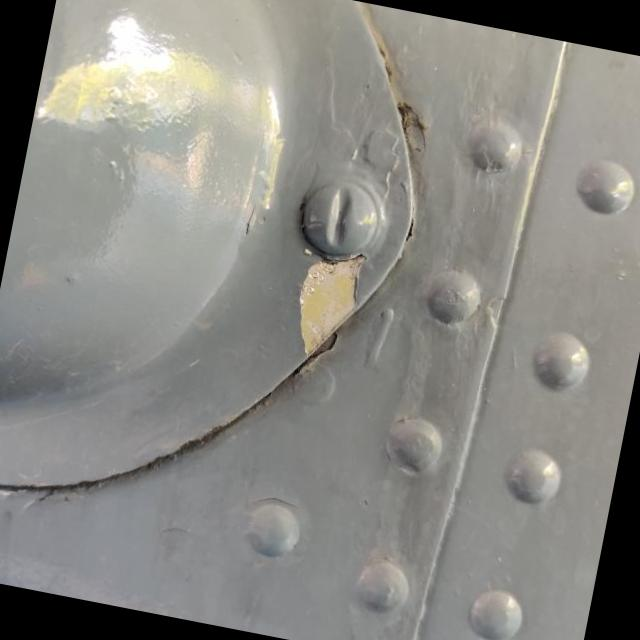Paint-off: (299, 256, 365, 355)
